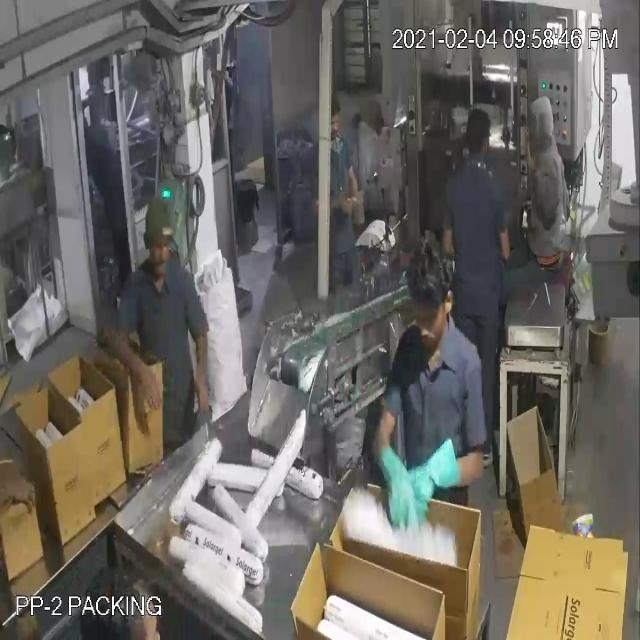No_Gloves: (20, 76, 439, 497)
